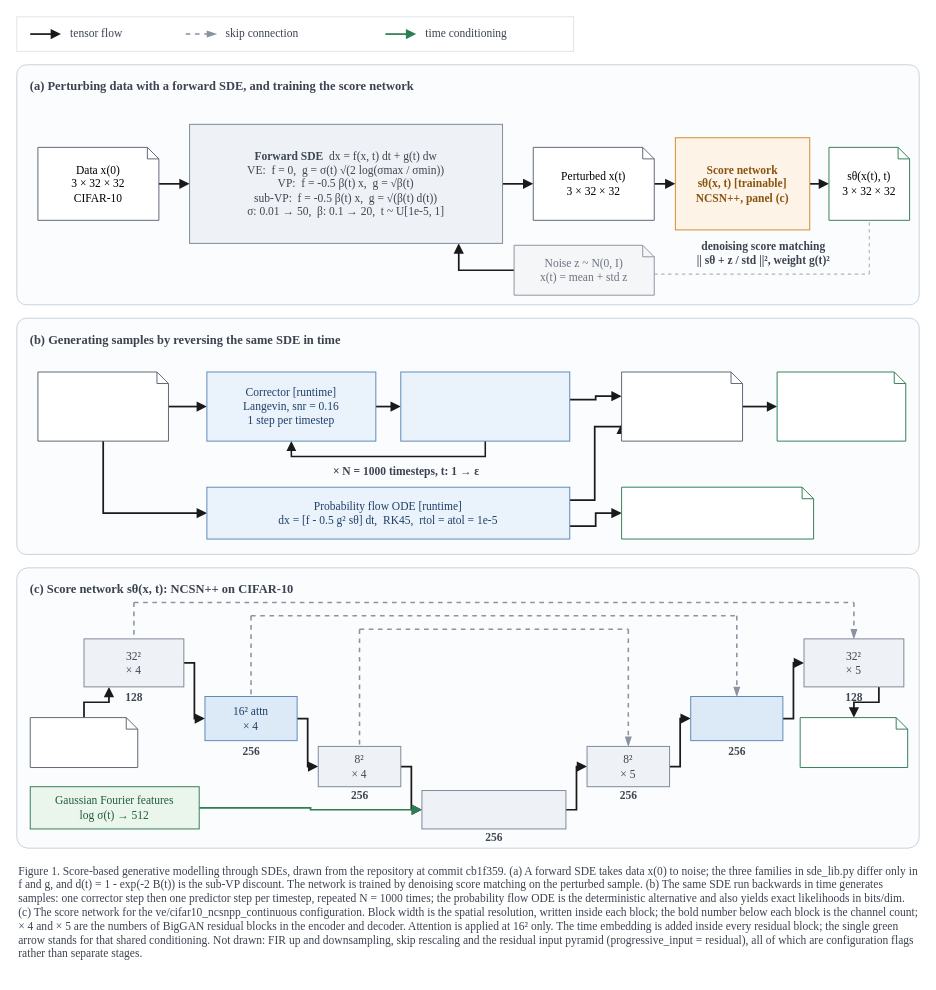
Image size: 936x990. Some labels were removed from this diagram. Each missing label, with the centre of its shape:
"16² attn × 5" goes at (736,718).
"4² × 4, Res-attn-Res, × 5" goes at (493,809).
"Denoised x(ε) ε = 1e-3" goes at (682,406).
"Log-likelihood in bits/dim Hutchinson-Skilling trace" goes at (717,512).
"Predictor [runtime] reverse diffusion step of the reverse SDE" goes at (485,406).
"Prior x(T) N(0, σmax² I) 3 × 32 × 32" goes at (102,406).
"Sample 3 × 32 × 32" goes at (841,406).
"sθ(x, t) 3 × 32 × 32, / σ(t)" goes at (853,742).
"x(t) 3 × 32 × 32" goes at (83,742).
